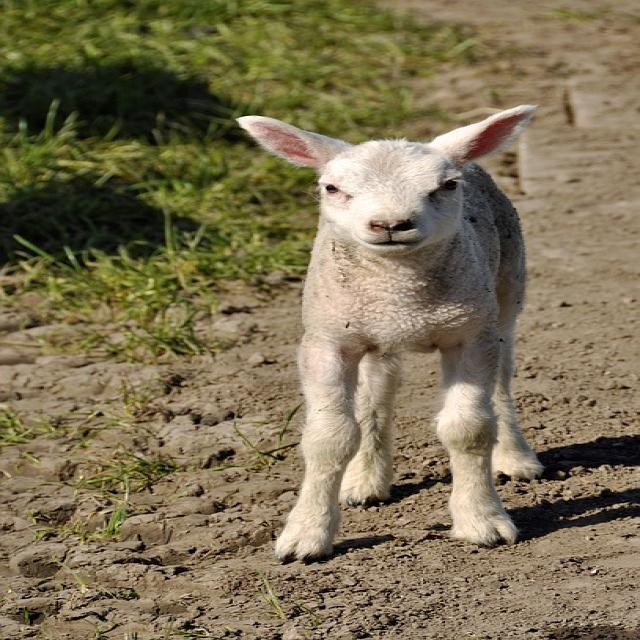goat: (237, 106, 544, 567)
